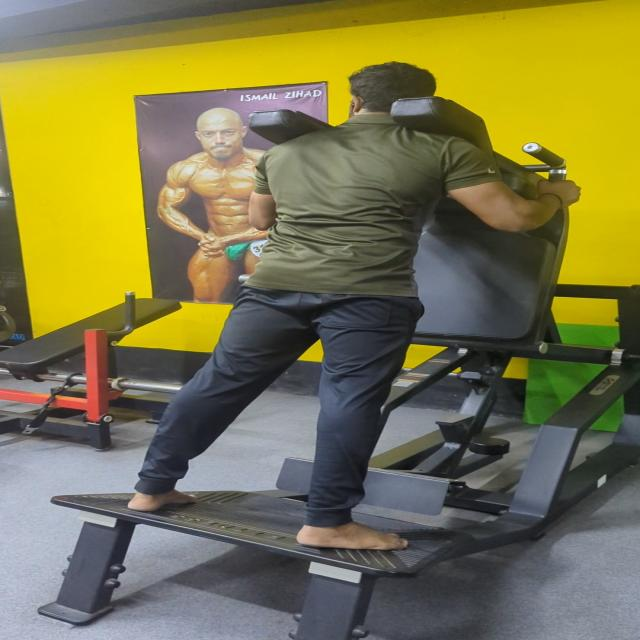Normal_SquatsWithBarbell: (95, 59, 640, 577)
